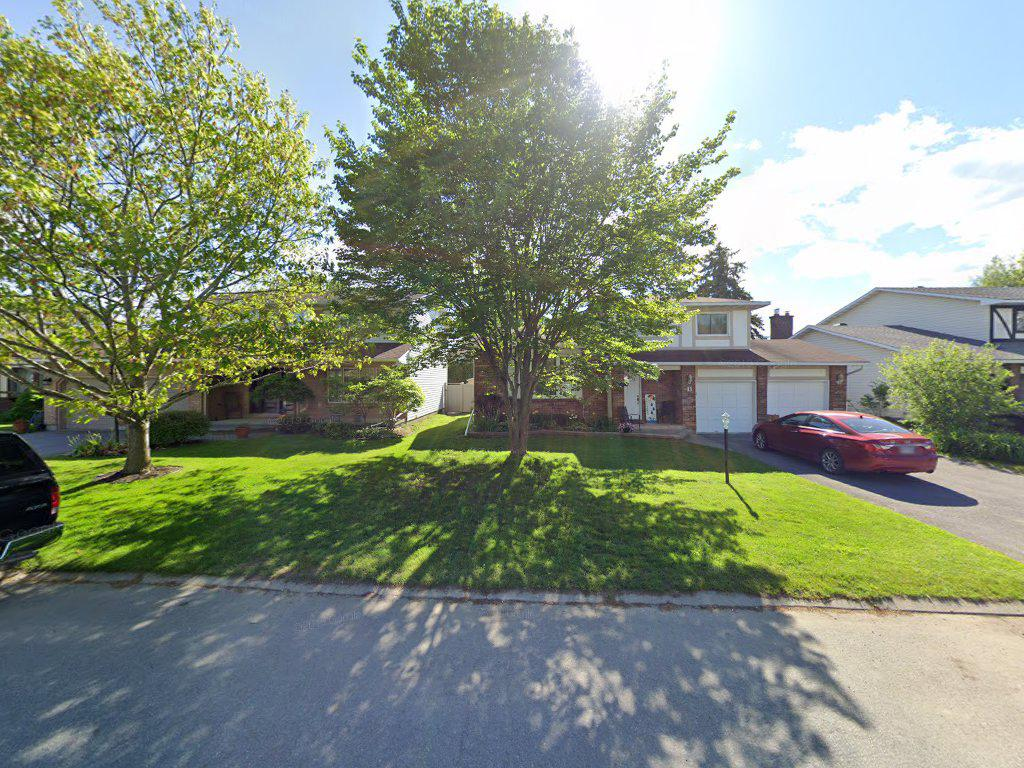trunk: (492, 361, 552, 469), (118, 400, 166, 489)
